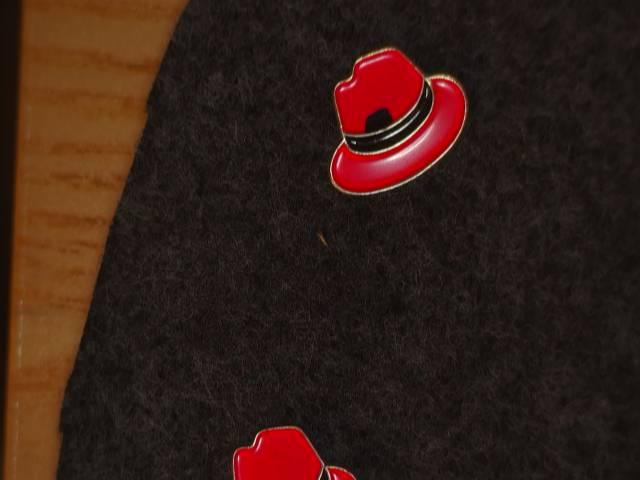Red-Hat: (293, 33, 487, 221), (202, 413, 375, 480)
Scratch: (357, 94, 397, 148)
